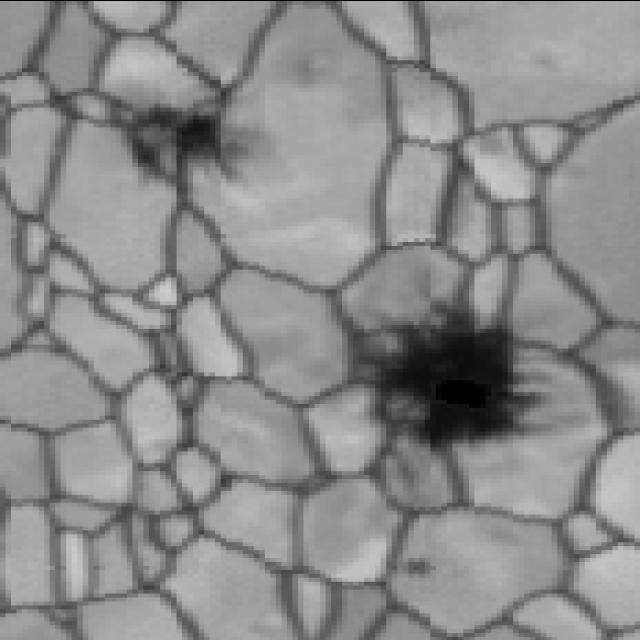good_void: (328, 290, 548, 454), (115, 91, 270, 192), (402, 549, 434, 586)
